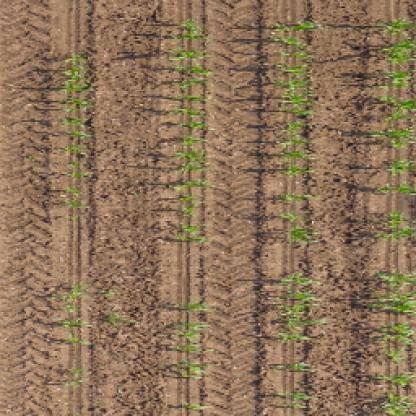sorghum_plant: (273, 20, 317, 245), (377, 18, 416, 240), (169, 18, 206, 244), (378, 264, 416, 414), (53, 276, 102, 388), (171, 296, 211, 401), (63, 53, 88, 209), (278, 270, 318, 346)
